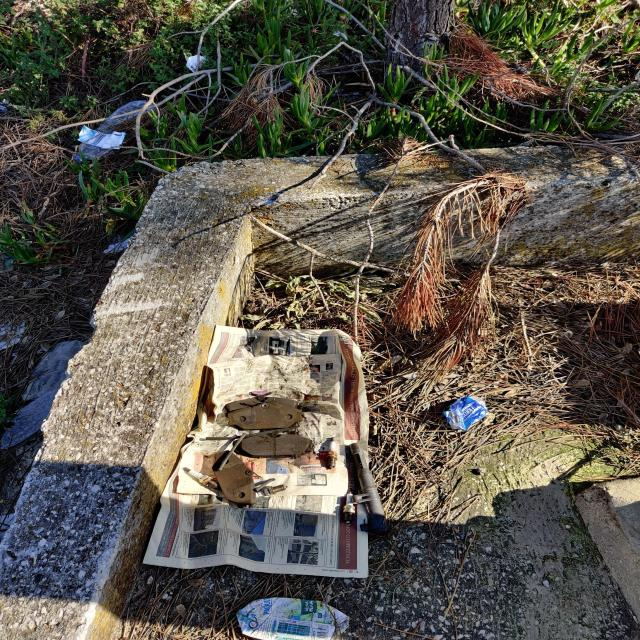litter: (236, 394, 483, 638), (146, 321, 375, 572)
